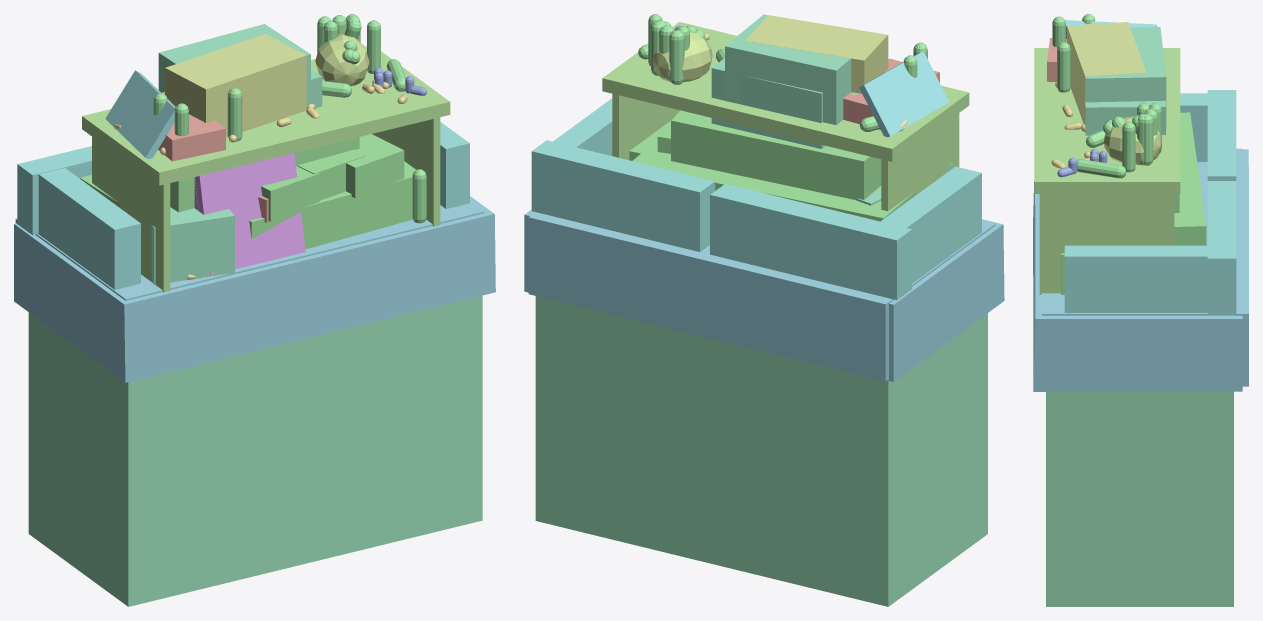
Rendered from radio.glb.
3 renders of one model, left to right at view 1: azimuth 30°, elevation 25°; view 2: azimuth 150°, elevation 25°; view 3: azimuth 270°, elevation 25°, orthographic. The views are drawn at different scales.
Parts seen in each view (by area): view 1: S6|SM_Foundation_Radio#0, S5|SM_RetainingWall_02a#0, S2|SM_MilitaryTable_01a#0, S2|S_Sandbag_Barrier_udtvadqfa_high_Var1#0, S4|SM_Buildable_Radio#0, S1|SM_MilitaryTable_01b#0, S5|SM_Buildable_Radio#0, S2|SM_FOB_Crate_11a#0, S2|SM_MS_CardboardBox_01a#0, S2|SM_FOB_Crate_06b#0, S2|SM_RetainingWall_02a#0, S3|SM_FOB_Crate_11a#1 (+12 smaller); view 2: S6|SM_Foundation_Radio#0, S2|S_Sandbag_Barrier_udtvadqfa_high_Var1#0, S2|SM_RetainingWall_02a#0, S2|SM_MilitaryTable_01a#0, S3|S_Sandbag_Barrier_udtvadqfa_high_Var1#1, S4|SM_RetainingWall_02a#0, S5|SM_RetainingWall_02a#0, S1|SM_FOB_Crate_11a#1, S3|SM_MS_CardboardBox_01a#0, S4|SM_Buildable_Radio#0, S2|SM_FOB_Crate_06b#0, S1|SM_MS_CardboardBox_01a#0 (+6 smaller); view 3: S6|SM_Foundation_Radio#0, S2|SM_MilitaryTable_01a#0, S5|SM_RetainingWall_02a#0, S3|S_Sandbag_Barrier_udtvadqfa_high_Var1#1, S2|S_Sandbag_Barrier_udtvadqfa_high_Var1#0, S2|SM_RetainingWall_02a#0, S4|SM_Buildable_Radio#0, S3|SM_MS_CardboardBox_01a#0, S1|SM_FOB_Crate_11a#0, S3|SM_RetainingWall_02a#0, S5|SM_Buildable_Radio#0, S1|SM_MS_CardboardBox_01a#0 (+9 smaller).
Part boxes in pixels (<box>): S6|SM_Foundation_Radio#0: <box>28,295,482,606</box>; S5|SM_RetainingWall_02a#0: <box>14,196,495,382</box>; S2|SM_MilitaryTable_01a#0: <box>82,46,450,292</box>; S2|S_Sandbag_Barrier_udtvadqfa_high_Var1#0: <box>17,146,140,289</box>; S4|SM_Buildable_Radio#0: <box>165,34,306,136</box>; S1|SM_MilitaryTable_01b#0: <box>195,153,305,275</box>; S5|SM_Buildable_Radio#0: <box>165,37,304,137</box>; S2|SM_FOB_Crate_11a#0: <box>249,161,415,249</box>; S2|SM_MS_CardboardBox_01a#0: <box>151,207,234,284</box>; S2|SM_FOB_Crate_06b#0: <box>105,70,175,159</box>; S2|SM_RetainingWall_02a#0: <box>15,201,483,300</box>; S3|SM_FOB_Crate_11a#1: <box>346,134,404,198</box>; S6|SM_Foundation_Radio#0: <box>535,296,987,606</box>; S2|S_Sandbag_Barrier_udtvadqfa_high_Var1#0: <box>710,166,981,299</box>; S2|SM_RetainingWall_02a#0: <box>528,212,995,381</box>; S2|SM_MilitaryTable_01a#0: <box>602,22,969,211</box>; S3|S_Sandbag_Barrier_udtvadqfa_high_Var1#1: <box>531,98,715,251</box>; S4|SM_RetainingWall_02a#0: <box>706,221,990,380</box>; S5|SM_RetainingWall_02a#0: <box>524,210,1004,381</box>; S1|SM_FOB_Crate_11a#1: <box>671,111,881,199</box>; S3|SM_MS_CardboardBox_01a#0: <box>725,14,851,125</box>; S4|SM_Buildable_Radio#0: <box>746,15,888,93</box>; S2|SM_FOB_Crate_06b#0: <box>859,51,949,137</box>; S1|SM_MS_CardboardBox_01a#0: <box>711,58,825,148</box>; S6|SM_Foundation_Radio#0: <box>1046,391,1233,606</box>; S2|SM_MilitaryTable_01a#0: <box>1034,48,1180,294</box>; S5|SM_RetainingWall_02a#0: <box>1033,148,1242,391</box>; S3|S_Sandbag_Barrier_udtvadqfa_high_Var1#1: <box>1064,181,1236,315</box>; S2|S_Sandbag_Barrier_udtvadqfa_high_Var1#0: <box>1180,90,1236,180</box>; S2|SM_RetainingWall_02a#0: <box>1041,149,1248,386</box>; S4|SM_Buildable_Radio#0: <box>1067,22,1144,124</box>; S3|SM_MS_CardboardBox_01a#0: <box>1085,27,1166,128</box>; S1|SM_FOB_Crate_11a#0: <box>1174,112,1206,245</box>; S3|SM_RetainingWall_02a#0: <box>1041,150,1248,313</box>; S5|SM_Buildable_Radio#0: <box>1067,25,1146,99</box>; S1|SM_MS_CardboardBox_01a#0: <box>1085,100,1165,135</box>.
Size of the model in its own units: 2.99 by 3.76 by 1.6.
